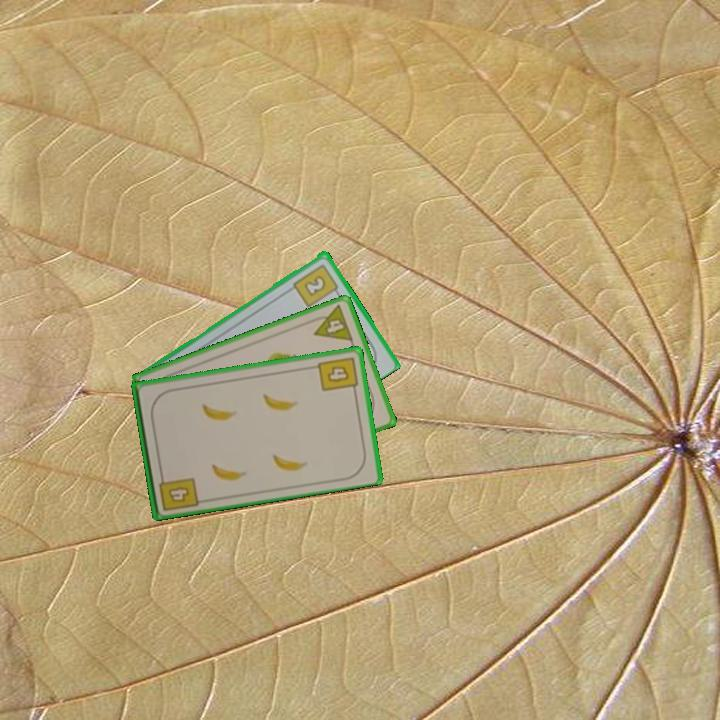2b: (290, 260, 343, 310)
4b: (155, 469, 201, 513), (314, 353, 360, 396)
4p: (306, 301, 356, 344)
